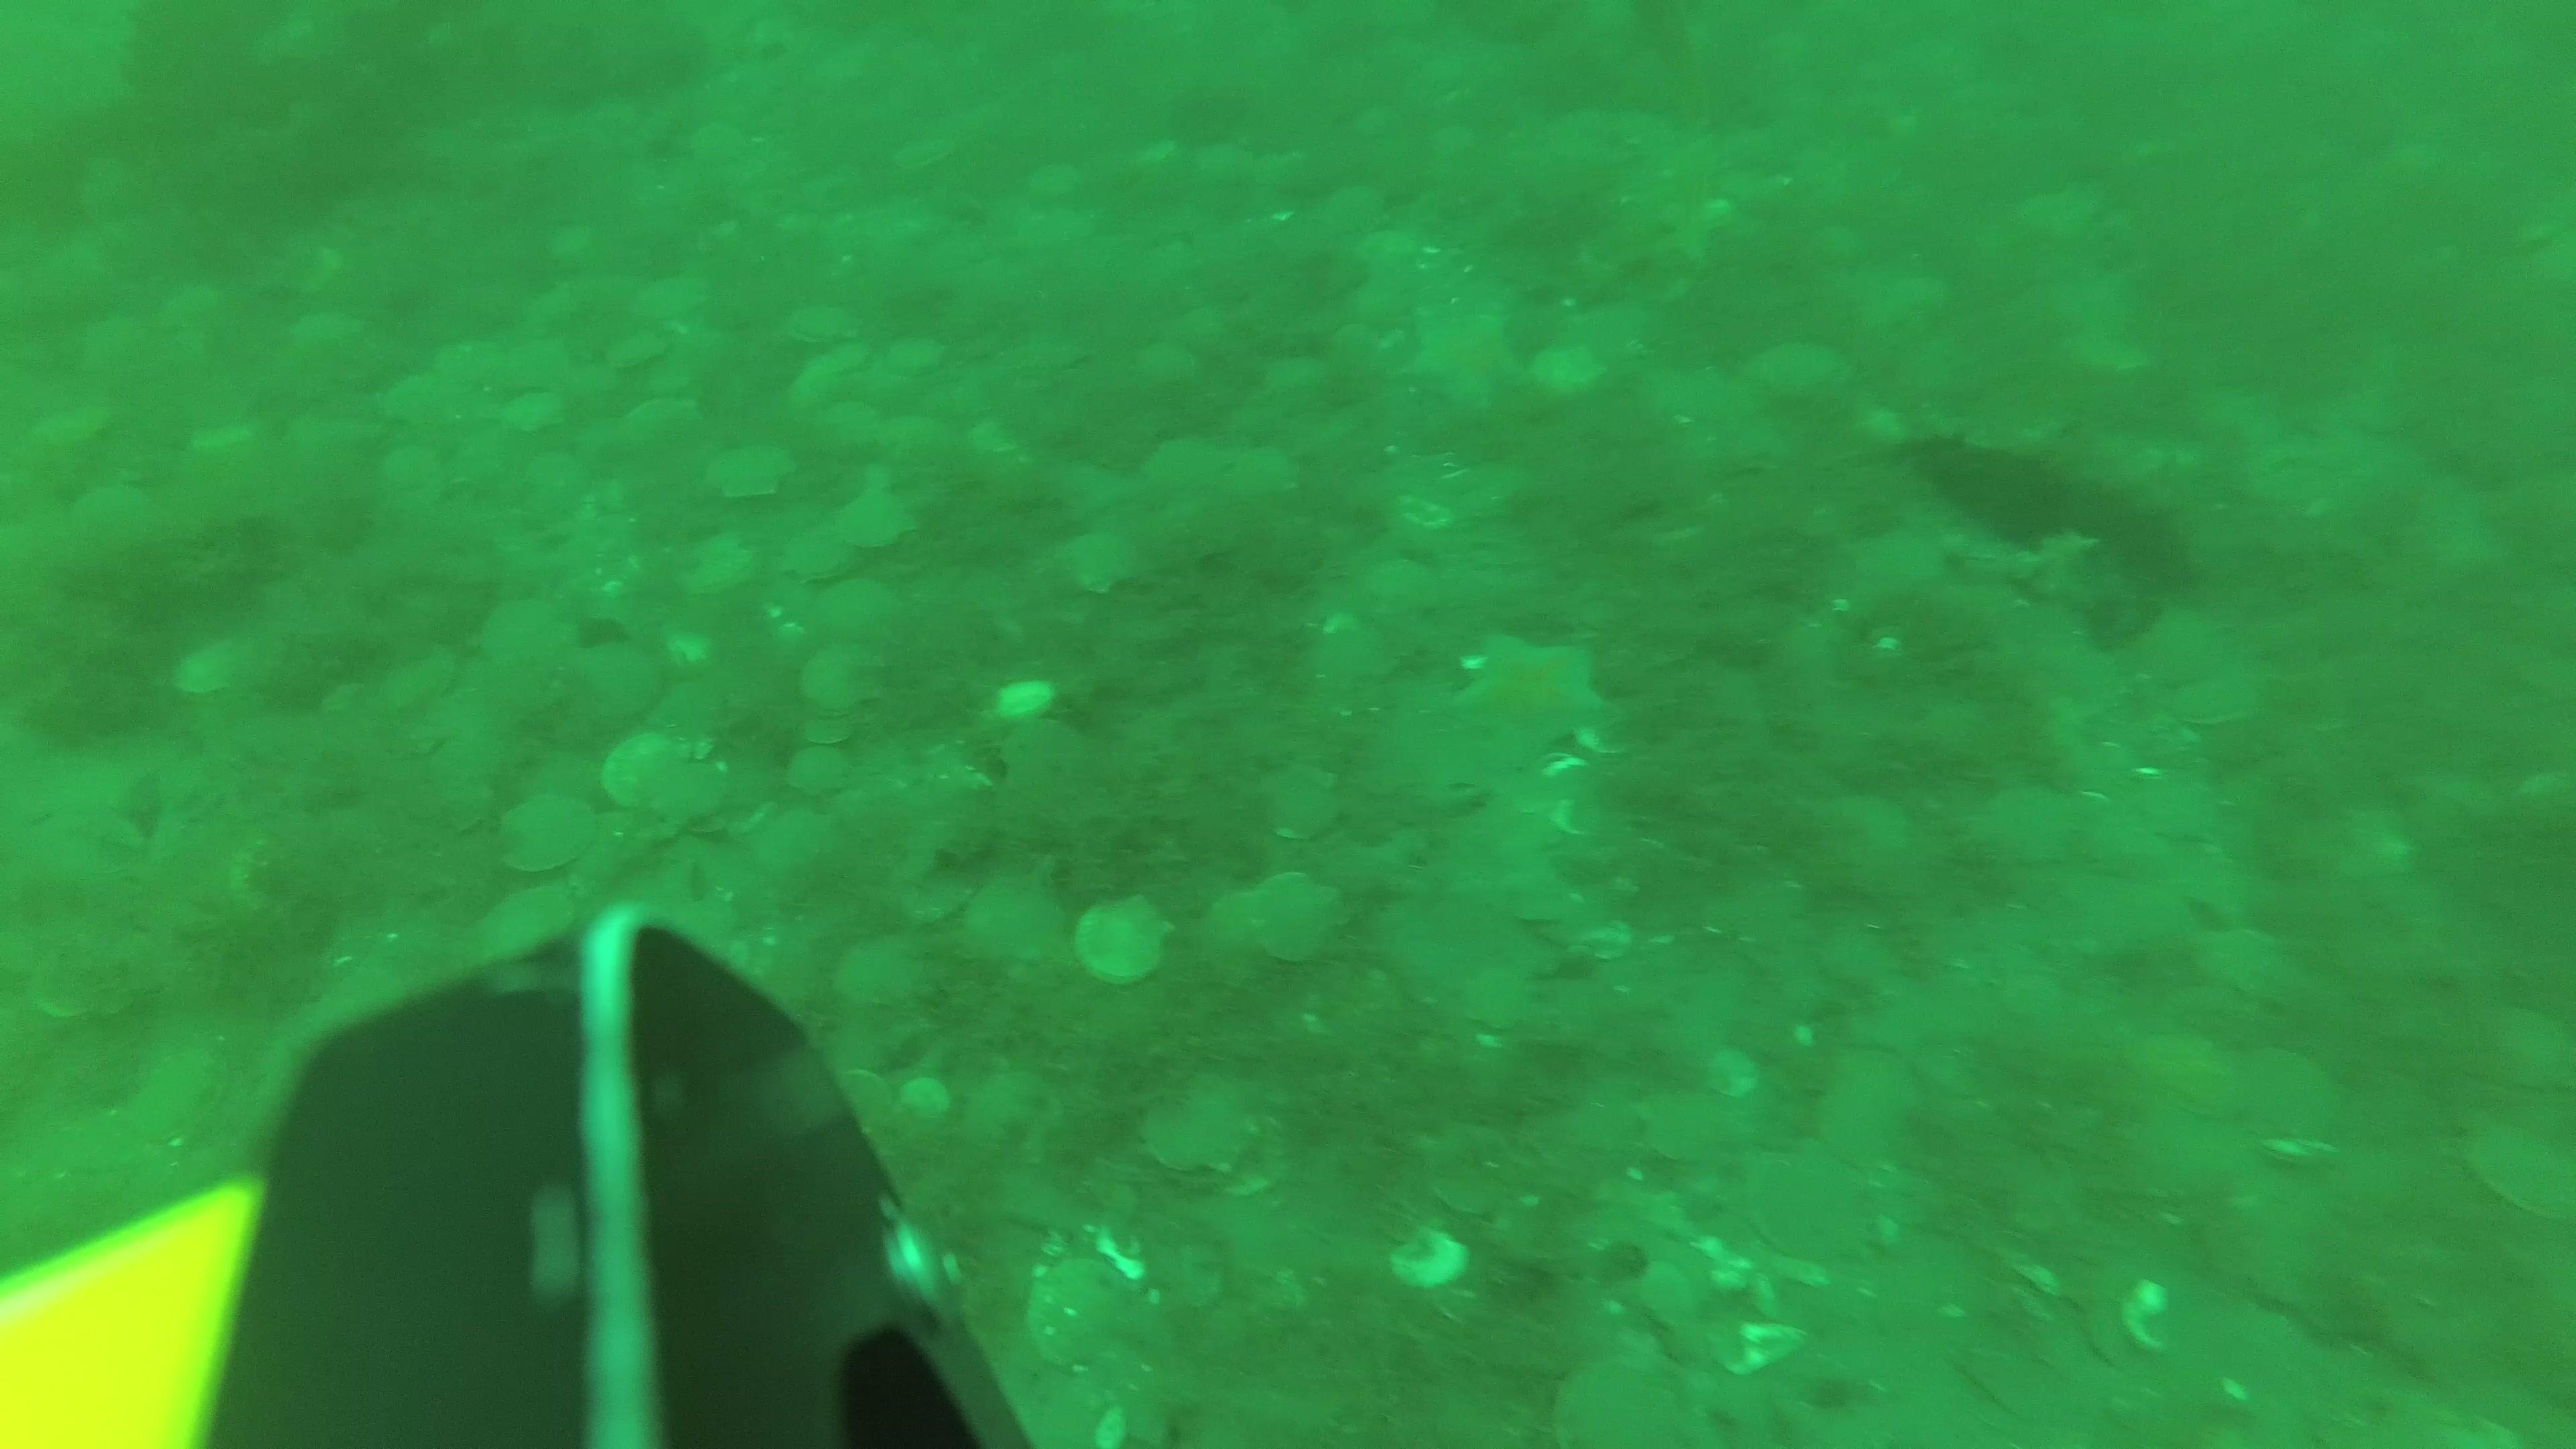scallop: (1801, 1044, 1934, 1164), (1552, 1357, 1720, 1449), (1739, 1161, 1890, 1263), (1132, 1062, 1260, 1177), (1024, 1251, 1138, 1375), (21, 924, 159, 1019), (2466, 1120, 2576, 1235), (1414, 1120, 1532, 1226), (955, 870, 1074, 970), (2240, 1047, 2353, 1146), (968, 1067, 1065, 1180), (485, 791, 603, 876), (2197, 915, 2312, 1001), (1254, 869, 1350, 968), (131, 1047, 226, 1146), (563, 639, 667, 724), (833, 931, 939, 1014), (2482, 1000, 2576, 1093), (1258, 750, 1350, 844), (1976, 782, 2077, 865), (2141, 1031, 2235, 1120), (1077, 897, 1171, 985), (469, 883, 579, 955), (1821, 789, 1920, 869), (1200, 886, 1277, 985), (478, 596, 579, 672), (1743, 331, 1845, 405), (372, 635, 465, 715), (1640, 1092, 1739, 1166), (754, 805, 844, 886), (801, 642, 893, 718), (1058, 524, 1146, 602), (2139, 607, 2220, 685), (996, 711, 1086, 780), (600, 732, 679, 810), (812, 575, 909, 639), (170, 637, 264, 699), (655, 759, 731, 835), (1141, 433, 1233, 495), (833, 483, 918, 548), (676, 531, 761, 596), (2171, 667, 2259, 729), (885, 860, 971, 922), (1362, 548, 1451, 609), (706, 439, 796, 497), (386, 373, 476, 430), (1527, 341, 1614, 400), (968, 414, 1051, 472), (630, 267, 717, 322), (780, 522, 862, 580), (73, 479, 152, 534), (1233, 446, 1307, 502), (35, 400, 120, 449), (280, 306, 370, 350), (1389, 492, 1465, 541), (619, 396, 697, 444), (1132, 338, 1200, 393), (784, 748, 858, 798), (874, 409, 950, 456), (524, 448, 589, 502), (1322, 184, 1391, 235), (377, 441, 446, 490), (1019, 157, 1090, 205), (786, 303, 863, 345), (1192, 140, 1256, 191), (888, 134, 961, 179), (600, 327, 672, 372), (504, 391, 570, 439), (1169, 301, 1233, 347), (686, 117, 745, 166), (786, 361, 844, 410), (1362, 219, 1419, 269), (1263, 350, 1323, 396), (888, 331, 948, 375), (547, 219, 598, 267), (821, 396, 869, 444), (801, 717, 863, 747)
starfish: (1453, 628, 1608, 763), (1399, 303, 1527, 416)
